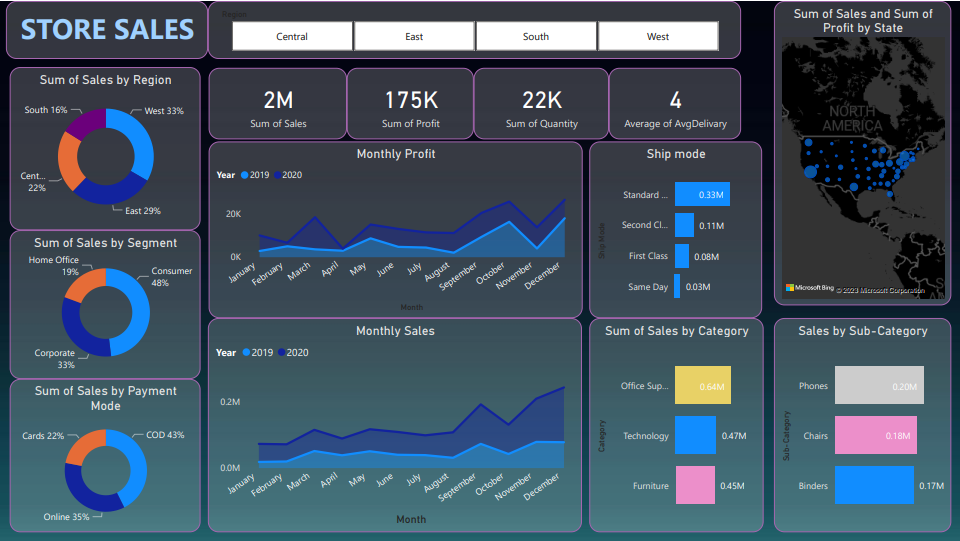

This screenshot's page, from the dashboard's own definition file:
{"tool":"powerbi","page":{"name":"Page 1","canvas":[1280,720],"ordinal":0},"visuals":[{"type":"clusteredBarChart","fields":{"Category":["SuperStore_Sales_Dataset.Category"],"Y":["Sum(SuperStore_Sales_Dataset.Sales)"]},"box":[785,421.7,231.7,285],"z":0},{"type":"clusteredBarChart","title":"Sales by Sub-Category","fields":{"Category":["SuperStore_Sales_Dataset.Sub-Category"],"Y":["Sum(SuperStore_Sales_Dataset.Sales)"]},"box":[1030.9,421.8,236.4,285.5],"z":1000},{"type":"clusteredBarChart","title":"Ship mode","fields":{"Category":["SuperStore_Sales_Dataset.Ship Mode"],"Y":["Sum(SuperStore_Sales_Dataset.Sales)"]},"box":[785.5,187.3,229.1,234.5],"z":2000},{"type":"stackedAreaChart","title":"Monthly Profit","fields":{"Series":["SuperStore_Sales_Dataset.Order Date.Variation.Date Hierarchy.Year"],"Category":["SuperStore_Sales_Dataset.Order Date.Variation.Date Hierarchy.Month"],"Y":["Sum(SuperStore_Sales_Dataset.Profit)"]},"box":[278.2,187.3,498.2,234.5],"z":3000},{"type":"stackedAreaChart","title":"Monthly Sales","fields":{"Y":["Sum(SuperStore_Sales_Dataset.Sales)"],"Series":["SuperStore_Sales_Dataset.Order Date.Variation.Date Hierarchy.Year"],"Category":["SuperStore_Sales_Dataset.Order Date.Variation.Date Hierarchy.Month","SuperStore_Sales_Dataset.Order Date.Variation.Date Hierarchy.Day"]},"box":[276.7,421.7,498.3,285],"z":4000},{"type":"map","fields":{"Category":["SuperStore_Sales_Dataset.State"],"Size":["Sum(SuperStore_Sales_Dataset.Sales)"]},"box":[1030.9,0,236.4,405.5],"z":5000},{"type":"donutChart","fields":{"Category":["SuperStore_Sales_Dataset.Segment"],"Y":["Sum(SuperStore_Sales_Dataset.Sales)"]},"box":[13.3,305,253.3,198.3],"z":6000},{"type":"donutChart","fields":{"Category":["SuperStore_Sales_Dataset.Payment Mode"],"Y":["Sum(SuperStore_Sales_Dataset.Sales)"]},"box":[13.3,503.3,253.3,203.3],"z":7000},{"type":"slicer","fields":{"Values":["SuperStore_Sales_Dataset.Region"]},"box":[276.7,0,710,76.7],"z":8000},{"type":"textbox","box":[8.3,0,268.3,76.7],"z":9000},{"type":"card","fields":{"Values":["Sum(SuperStore_Sales_Dataset.Sales)"]},"box":[278.2,89.1,183.6,94.5],"z":10000},{"type":"card","fields":{"Values":["Sum(SuperStore_Sales_Dataset.Profit)"]},"box":[461.8,89.1,169.1,94.5],"z":11000},{"type":"card","fields":{"Values":["Sum(SuperStore_Sales_Dataset.Quantity)"]},"box":[630.9,89.1,180,94.5],"z":12000},{"type":"card","fields":{"Values":["Avg(SuperStore_Sales_Dataset.AvgDelivary)"]},"box":[810.9,89.1,176.4,94.5],"z":13000},{"type":"donutChart","fields":{"Category":["SuperStore_Sales_Dataset.Region","SuperStore_Sales_Dataset.Segment"],"Y":["Sum(SuperStore_Sales_Dataset.Sales)"]},"box":[13.3,88.3,253.3,216.7],"z":14000}]}

Visuals, with their boxes in screenshot pixels (x1, y1, x2, y2), scaled from the page's 1280x720 canvas onto the 960x541 screenshot:
clusteredBarChart - SuperStore_Sales_Dataset.Category x Sum(SuperStore_Sales_Dataset.Sales): 589 317 763 531
"Sales by Sub-Category" clusteredBarChart: 773 317 950 531
"Ship mode" clusteredBarChart: 589 141 761 317
"Monthly Profit" stackedAreaChart: 209 141 582 317
"Monthly Sales" stackedAreaChart: 208 317 581 531
map - SuperStore_Sales_Dataset.State x Sum(SuperStore_Sales_Dataset.Sales): 773 0 950 305
donutChart - SuperStore_Sales_Dataset.Segment x Sum(SuperStore_Sales_Dataset.Sales): 10 229 200 378
donutChart - SuperStore_Sales_Dataset.Payment Mode x Sum(SuperStore_Sales_Dataset.Sales): 10 378 200 531
slicer - SuperStore_Sales_Dataset.Region: 208 0 740 58
textbox: 6 0 207 58
card - Sum(SuperStore_Sales_Dataset.Sales): 209 67 346 138
card - Sum(SuperStore_Sales_Dataset.Profit): 346 67 473 138
card - Sum(SuperStore_Sales_Dataset.Quantity): 473 67 608 138
card - Avg(SuperStore_Sales_Dataset.AvgDelivary): 608 67 740 138
donutChart - SuperStore_Sales_Dataset.Region x SuperStore_Sales_Dataset.Segment: 10 66 200 229
